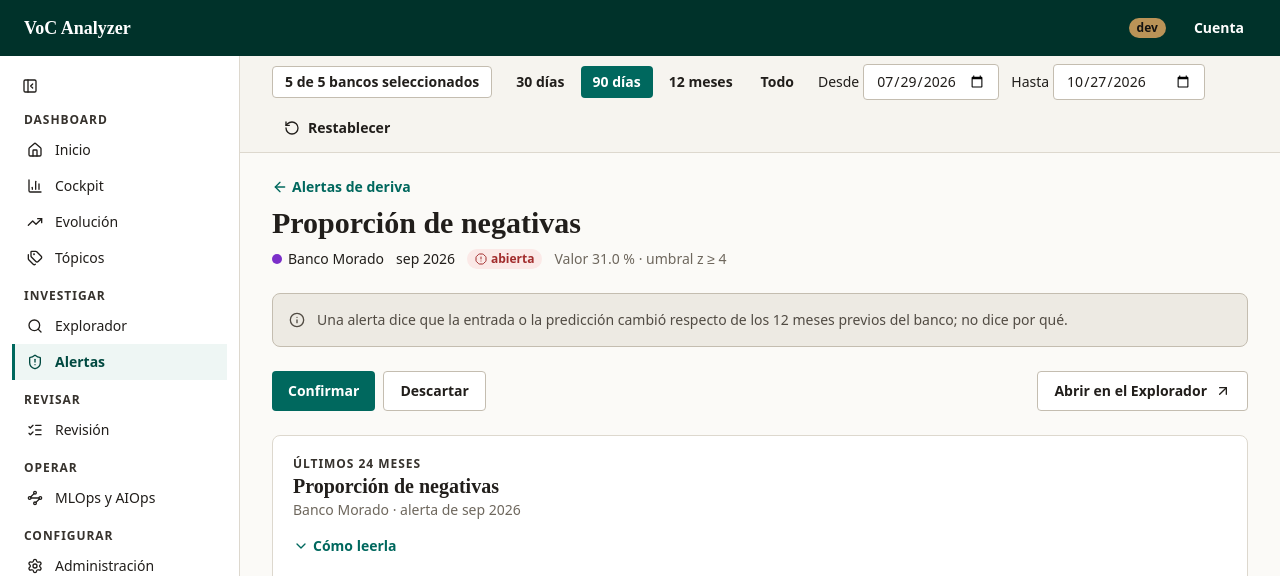
Scenario: detalle de una alerta › Confirmar exige una nota de 10 caracteres y manda el ticket
Click the button "Confirmar". click: (324, 391)
box: [272, 371, 375, 411]
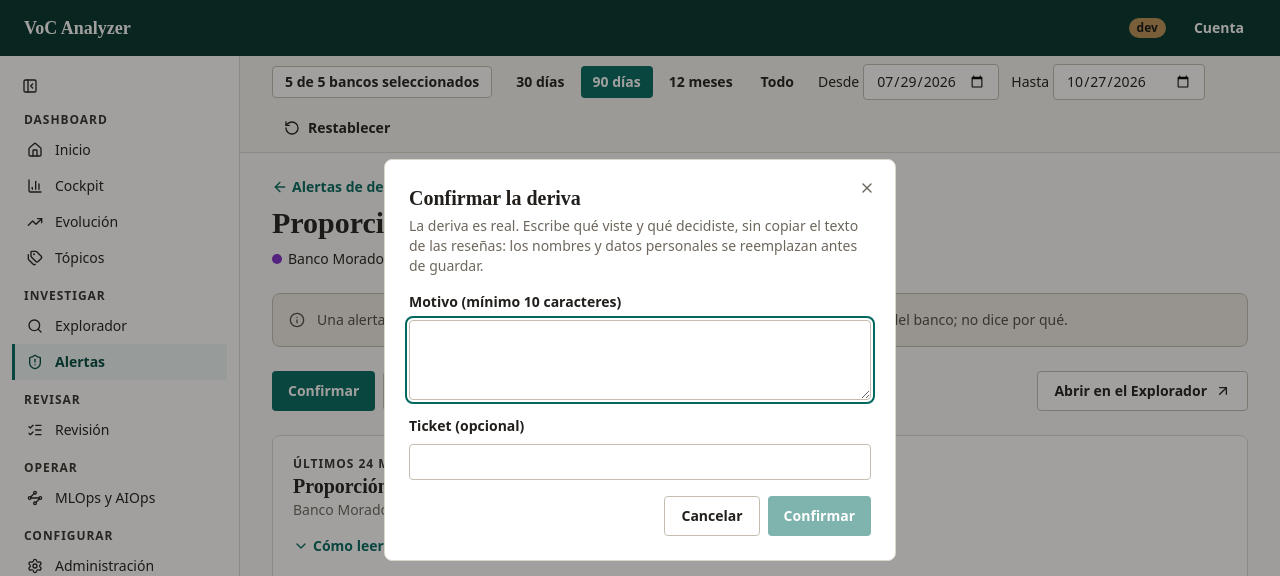
Expected: the button "Confirmar" is disabled, [768, 496, 871, 536]
Type "corta" into the text box labelled "Motivo (mínimo 10 caracteres)". click: (640, 360)
box: [409, 320, 871, 400]
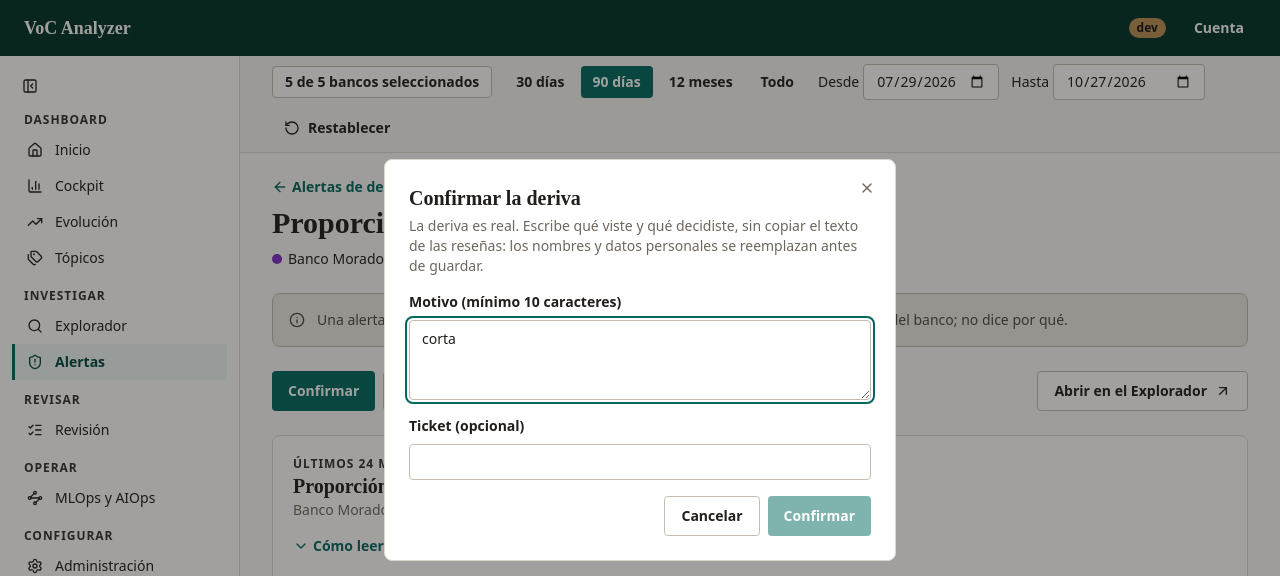
Expected: the button "Confirmar" is disabled, [768, 496, 871, 536]
Replace the text in the text box labelled "Motivo (mínimo 10 caracteres)" with "Revisado con el equipo, la deriva es real.". click: (640, 360)
box: [409, 320, 871, 400]
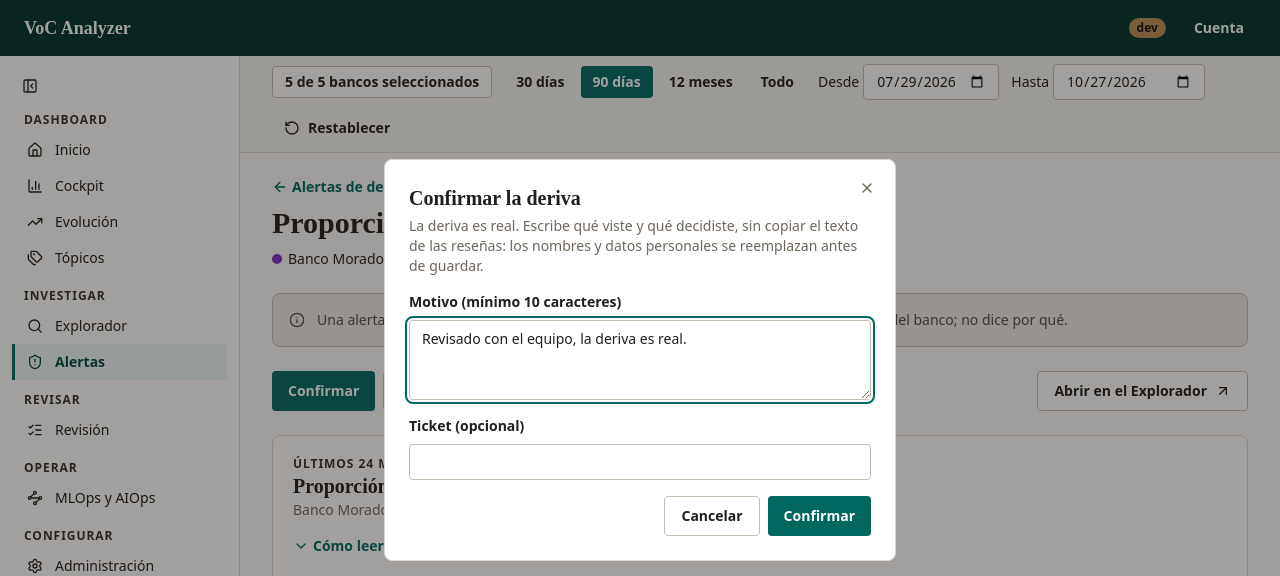
Type "VOC-77" into the field labelled "Ticket (opcional)". click: (640, 462)
box: [409, 444, 871, 480]
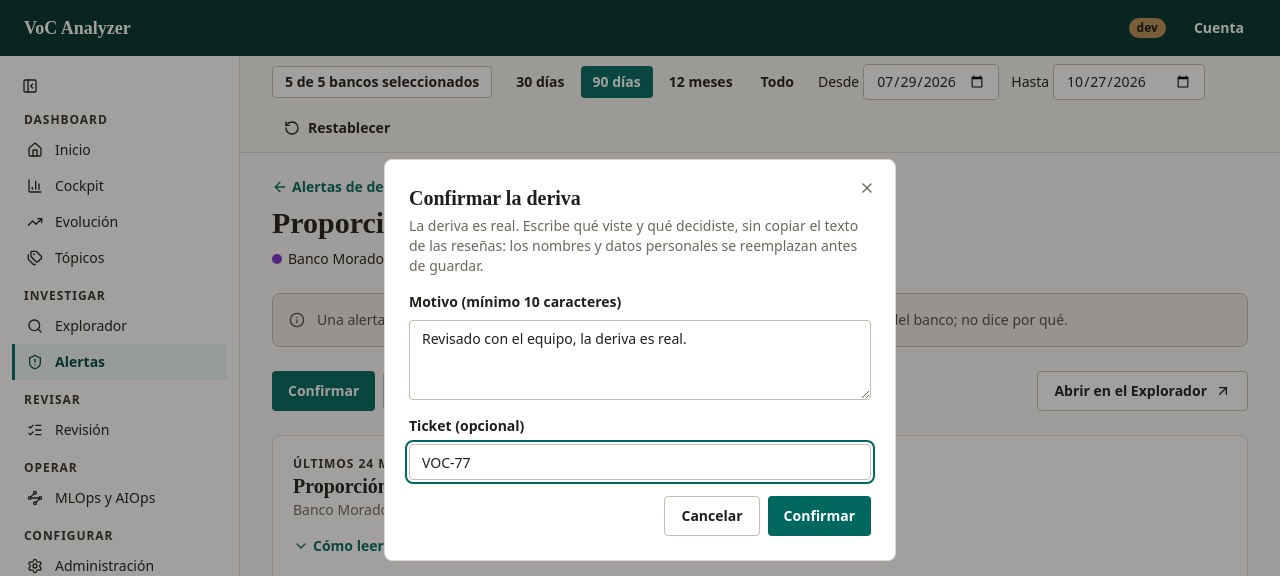
Click the button "Confirmar". click: (819, 516)
box: [768, 496, 871, 536]
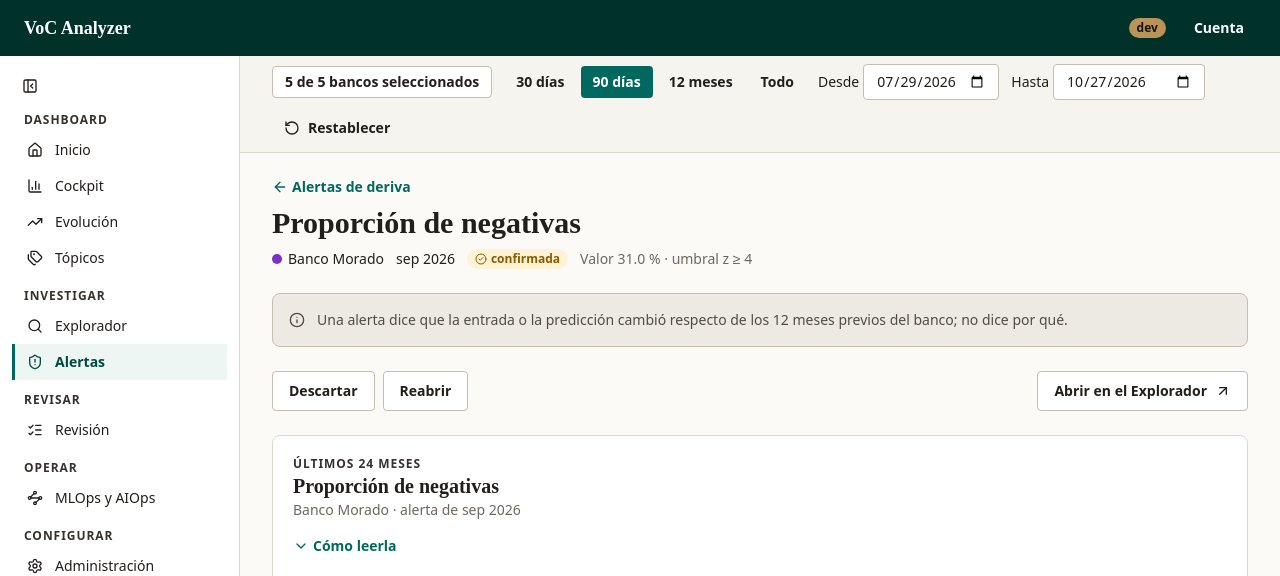
Expected: the button "Reabrir" is shown, [382, 371, 468, 411]
Expected: the button "Confirmar" is gone
